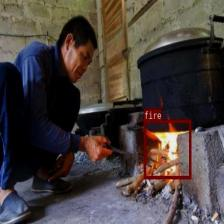fire: (144, 119, 191, 179)
